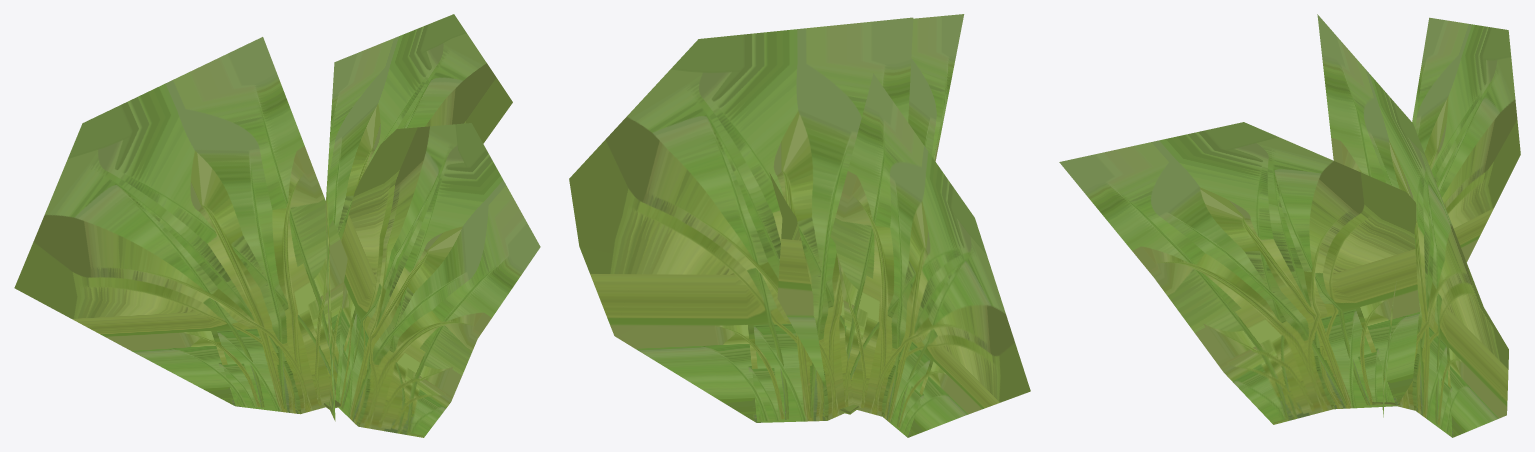
The model's file is SM_Grass_A.fbx.
3 views of the same model, side by side, from view 1: azimuth 30°, elevation 25°; view 2: azimuth 150°, elevation 25°; view 3: azimuth 270°, elevation 25° (orthographic).
Parts seen in each view (by area): view 1: SM_Grass_A_LOD0; view 2: SM_Grass_A_LOD0; view 3: SM_Grass_A_LOD0.
Boxes of the visible parts, x1,y1,x2,y2 form: SM_Grass_A_LOD0: (14, 14, 540, 437); SM_Grass_A_LOD0: (569, 14, 1030, 437); SM_Grass_A_LOD0: (1059, 14, 1520, 437).
Size of what is drawn, in the model's own units: 59.91 by 45.08 by 49.64.
1 material, 1 textured.
